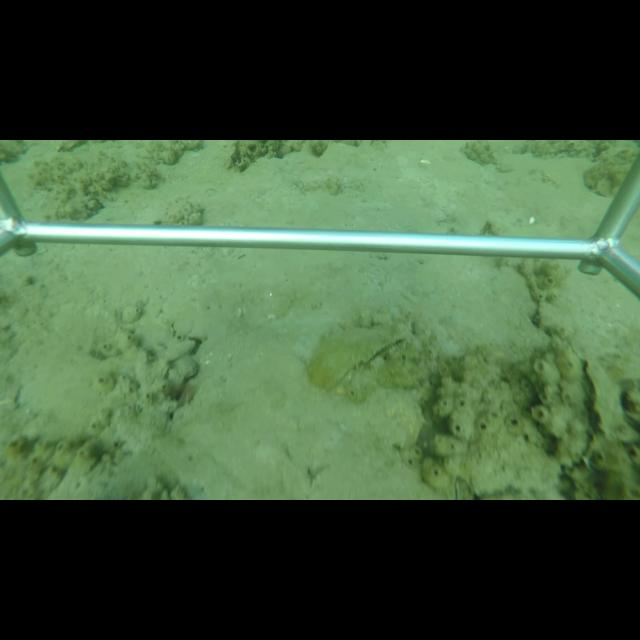Oyster-Closed: (306, 323, 406, 391)
Oyster-Open: (578, 354, 628, 438)
